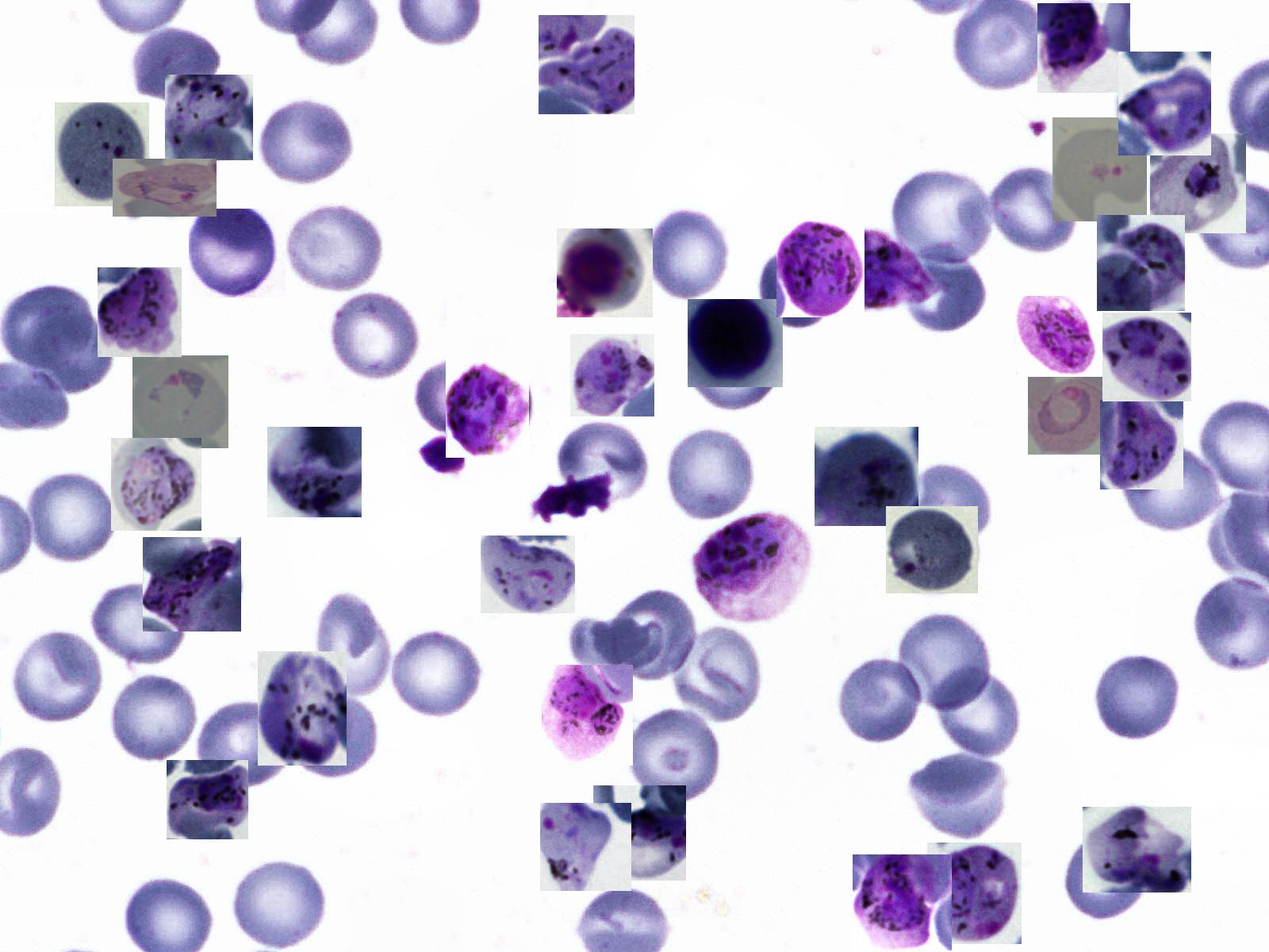Infected: (691, 509, 810, 625), (828, 218, 942, 314), (258, 651, 347, 766), (815, 427, 918, 526), (1052, 117, 1147, 221), (55, 102, 149, 206), (927, 843, 1022, 944), (1118, 52, 1211, 155), (1150, 134, 1246, 233), (853, 854, 952, 950), (539, 15, 634, 114), (542, 665, 633, 766), (1083, 807, 1191, 892), (144, 537, 241, 631), (132, 355, 228, 448), (593, 785, 686, 881), (189, 209, 286, 298), (446, 354, 529, 458), (267, 427, 362, 517), (557, 228, 653, 317), (776, 221, 865, 317), (1097, 215, 1185, 311), (111, 438, 201, 531), (1037, 3, 1130, 93), (688, 299, 783, 387), (540, 803, 631, 891), (886, 506, 978, 593), (1102, 313, 1191, 401), (98, 267, 182, 357), (165, 75, 253, 160), (1100, 400, 1183, 489), (481, 536, 575, 613), (1016, 296, 1104, 377), (570, 334, 654, 416), (1028, 375, 1112, 455), (167, 760, 248, 839), (113, 159, 217, 217)
Uninfected: (888, 167, 993, 271), (892, 613, 993, 711), (413, 355, 519, 446), (1118, 440, 1221, 532), (311, 585, 392, 701), (10, 627, 104, 726), (228, 858, 329, 949), (387, 625, 484, 719), (630, 704, 722, 803), (282, 206, 386, 293), (929, 666, 1022, 763), (1060, 827, 1153, 923), (15, 309, 113, 400), (884, 464, 991, 547), (86, 580, 189, 666), (21, 471, 114, 565), (664, 426, 755, 522), (105, 671, 201, 762), (907, 752, 1010, 836), (0, 279, 91, 374), (194, 697, 284, 793), (255, 101, 357, 185), (674, 627, 760, 726), (611, 580, 692, 685), (287, 691, 380, 781), (990, 169, 1080, 261), (688, 325, 781, 413), (1095, 651, 1182, 743), (834, 656, 924, 744), (555, 424, 651, 506), (907, 240, 988, 337), (328, 293, 418, 380), (650, 208, 734, 301), (129, 26, 223, 104), (758, 244, 836, 334), (563, 618, 669, 673)
